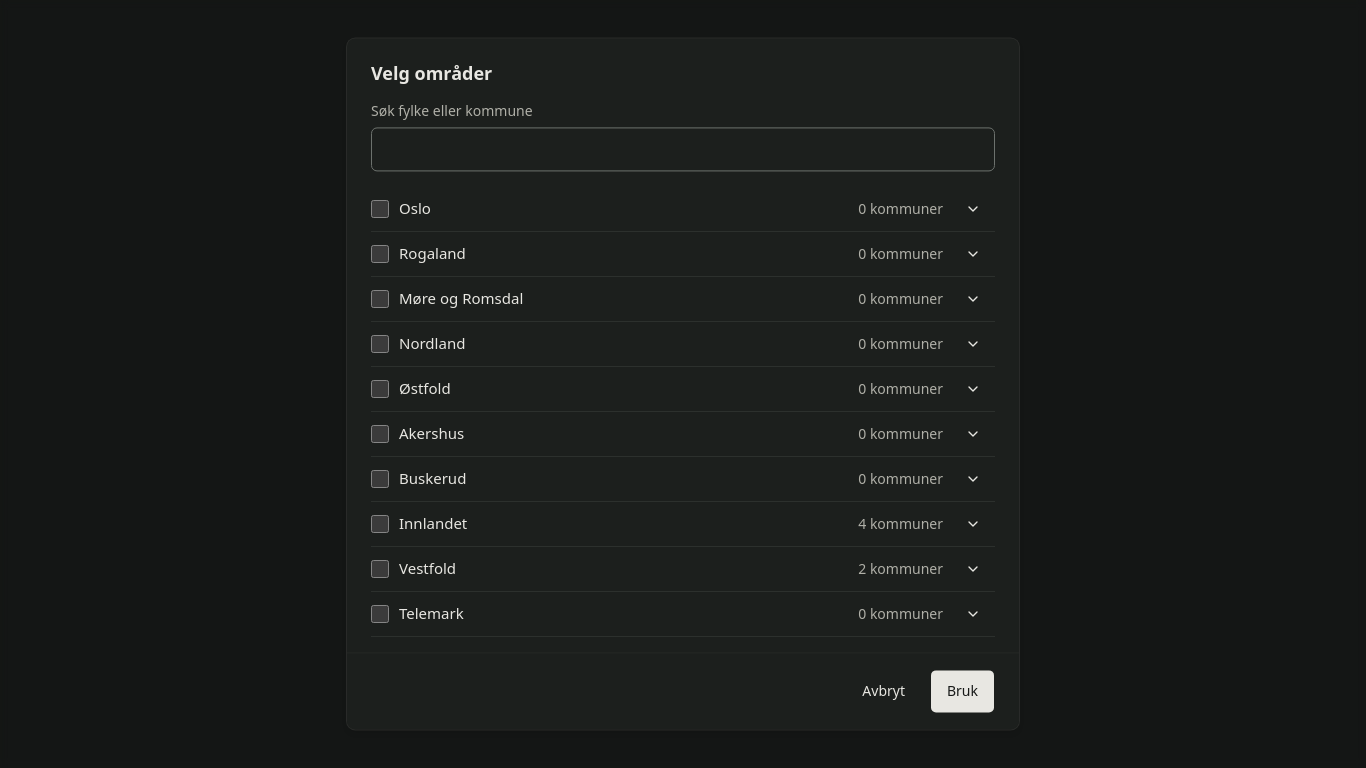
Test: AreaPickerDialog › the disclosure expands the kommune list, named and wired with aria-controls
Step 1. Click the button named "Vis kommuner i Innlandet" → click(973, 524), box [951,502,995,546]
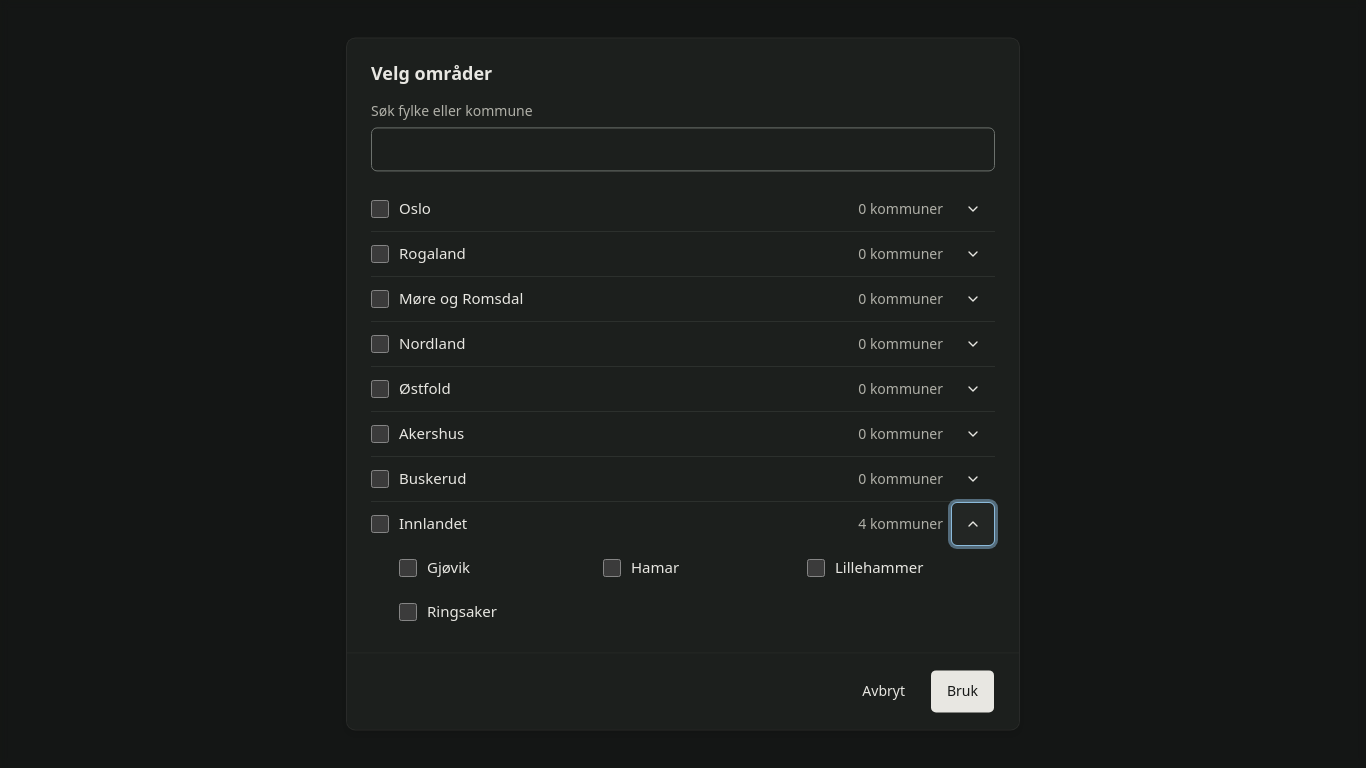
Check: the button named "Skjul kommuner i Innlandet" is expanded, box [951,502,995,546]
